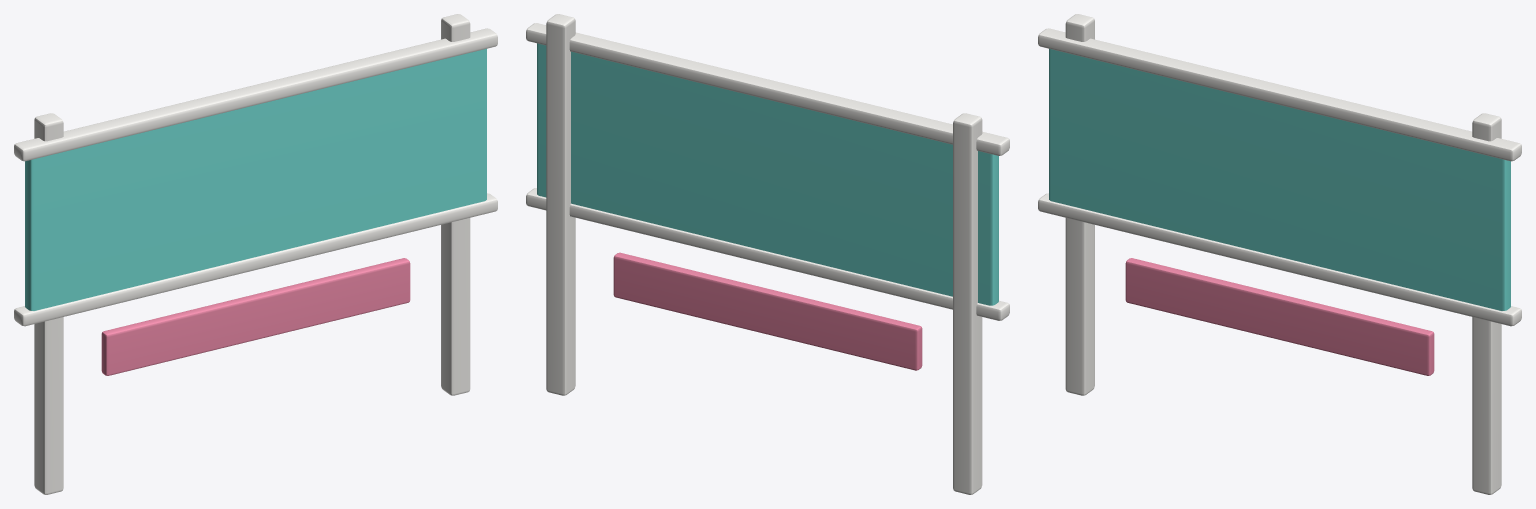
The model's file is SignPainted.fbx.
3 views of the same model, side by side, from view 1: azimuth 30°, elevation 25°; view 2: azimuth 150°, elevation 25°; view 3: azimuth 330°, elevation 25° (orthographic).
Visible parts, largest first — view 1: SignPainted; view 2: SignPainted; view 3: SignPainted.
Part boxes in pixels (x1,y1,x2,y2): SignPainted: (14,14,497,494); SignPainted: (526,14,1009,494); SignPainted: (1038,14,1521,494).
Size of the model in its own units: 3.75 by 2.8 by 0.2.
